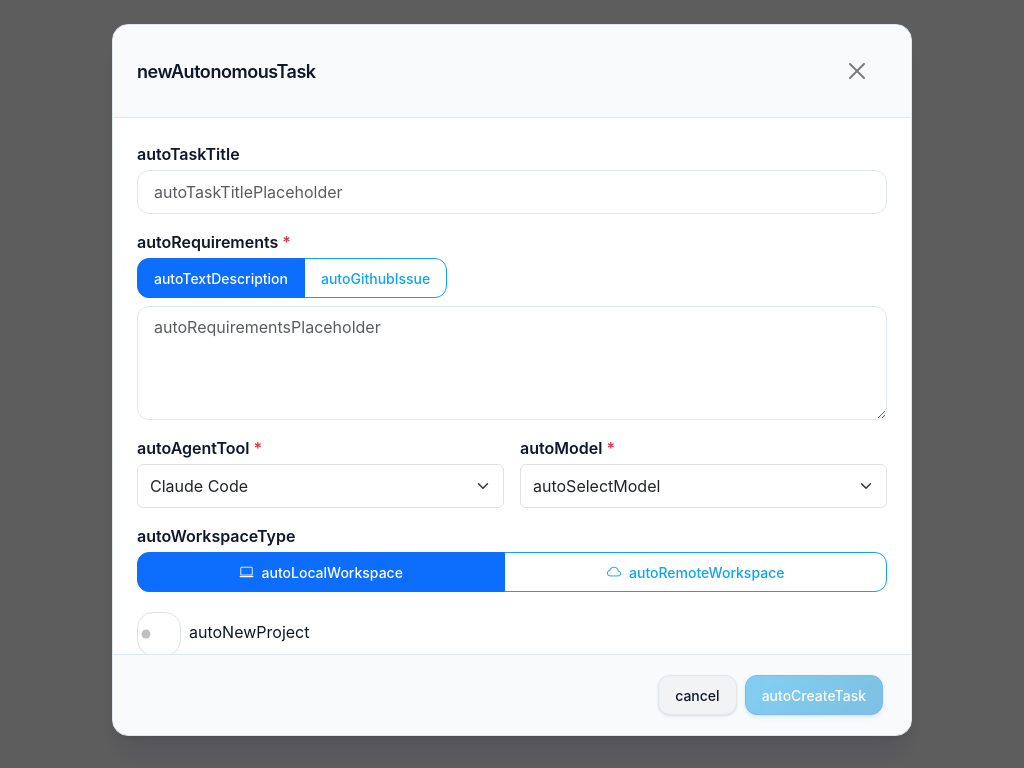
it: NewAutonomousModal › issue-mode suggestion in text mode › suggests switching when the text input is a bare issue number
Type "830" into the text box with placeholder "autoRequirementsPlaceholder".
click(512, 363); type("830")  # box x1=137 y1=306 x2=887 y2=420
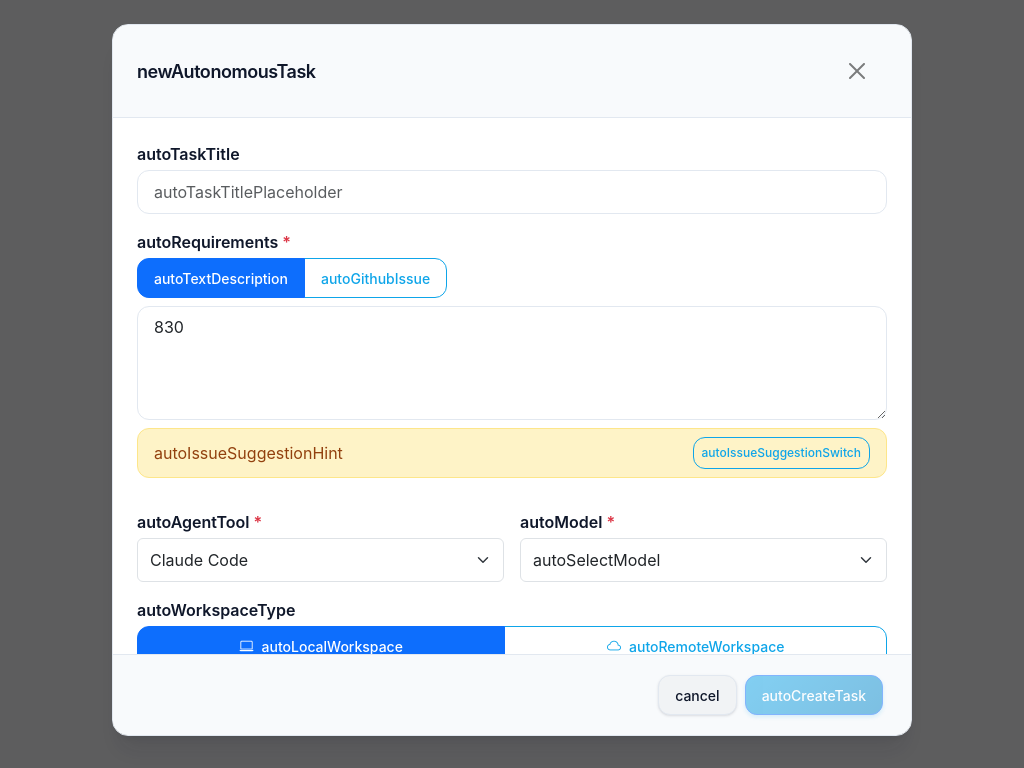
Result: the button "autoIssueSuggestionSwitch" is shown at x1=692 y1=437 x2=870 y2=469
